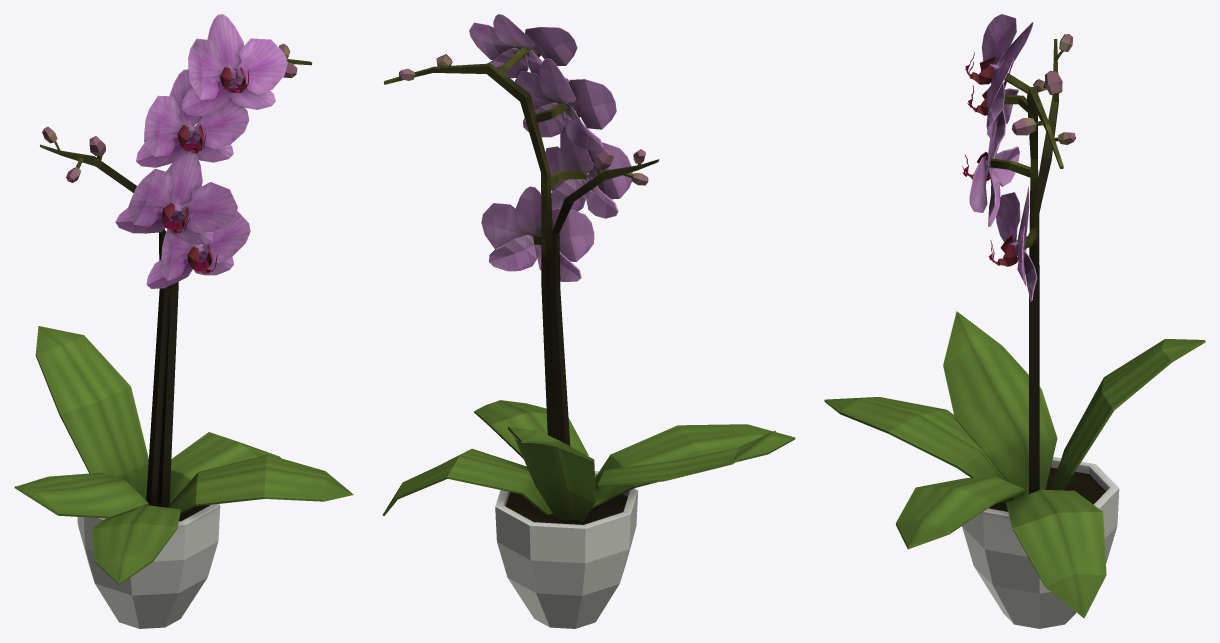
Rendered from Orchid.glb.
3 views of the same model, side by side, from view 1: azimuth 30°, elevation 25°; view 2: azimuth 150°, elevation 25°; view 3: azimuth 270°, elevation 25° (orthographic). The views are drawn at different scales.
Parts seen in each view (by area): view 1: Orchids_Mesh; view 2: Orchids_Mesh; view 3: Orchids_Mesh.
Boxes of the visible parts, box(x1,y1,x2,y2) form: Orchids_Mesh: box(14, 14, 353, 628); Orchids_Mesh: box(382, 14, 795, 628); Orchids_Mesh: box(824, 14, 1205, 628).
Size of the model in its own units: 2.56 by 4.14 by 2.28.
1 material, 1 textured.
